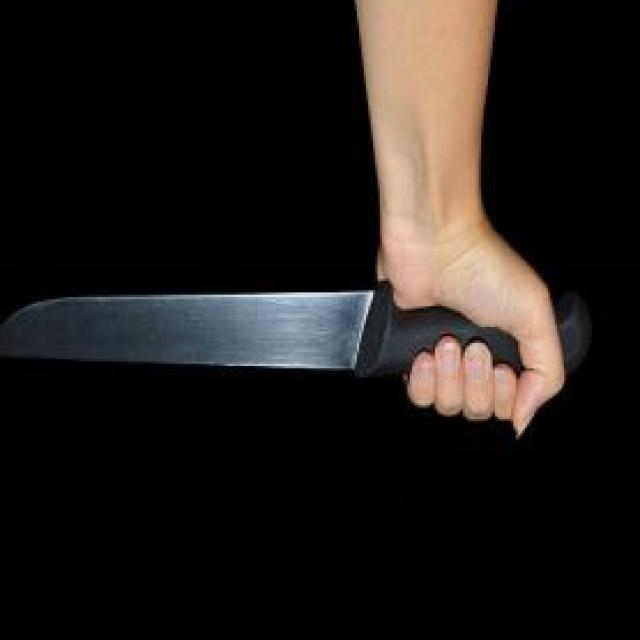knife: (0, 286, 590, 376)
